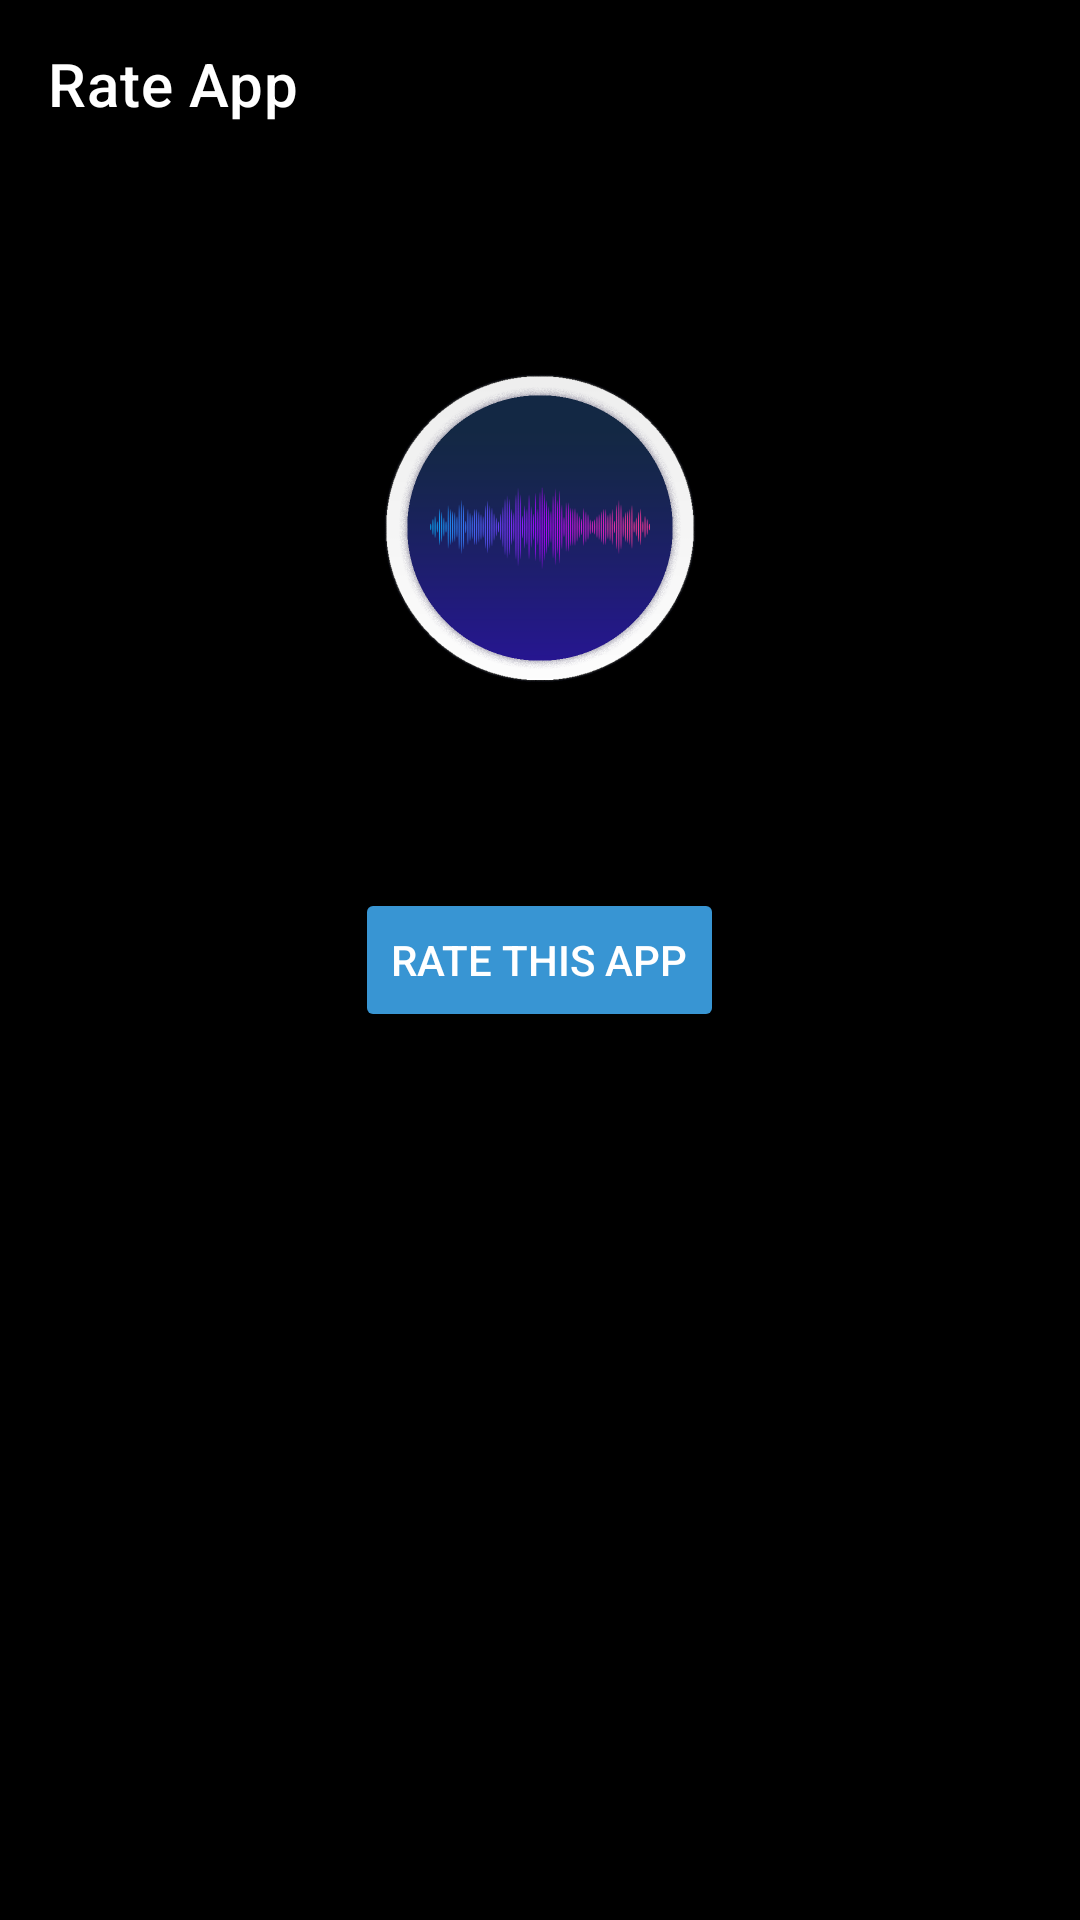

Point at icon controls on the screen. Image size 1080*1920, points as [x,y].
voxiconfinal: [540,528]
